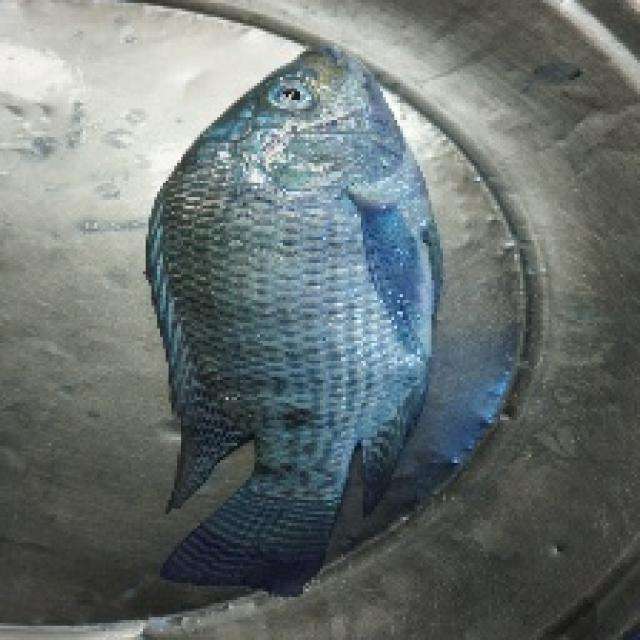Fresh: (141, 21, 449, 618)
